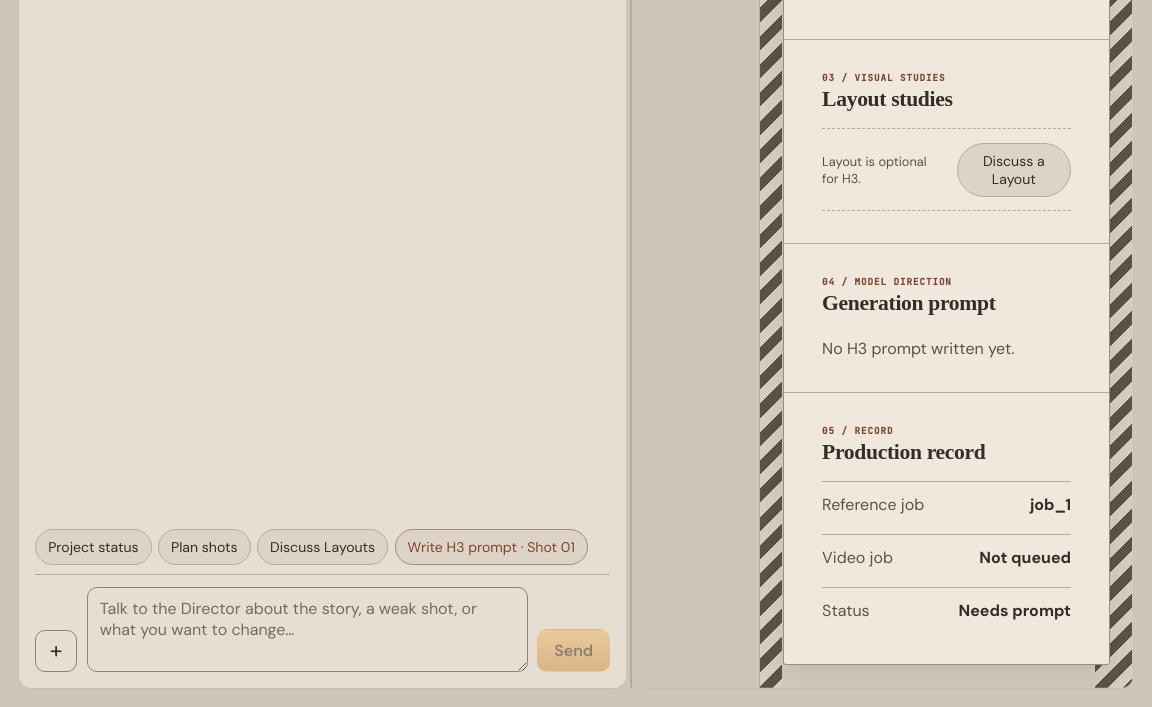
Scenario: Director shot actions › keeps chat project-wide without showing a redundant scope subtitle
(page scrolled)
Replace the text in the text box with placeholder "Talk to the Director" with "What should we improve next?" at (307, 630), box [87,587,528,672]
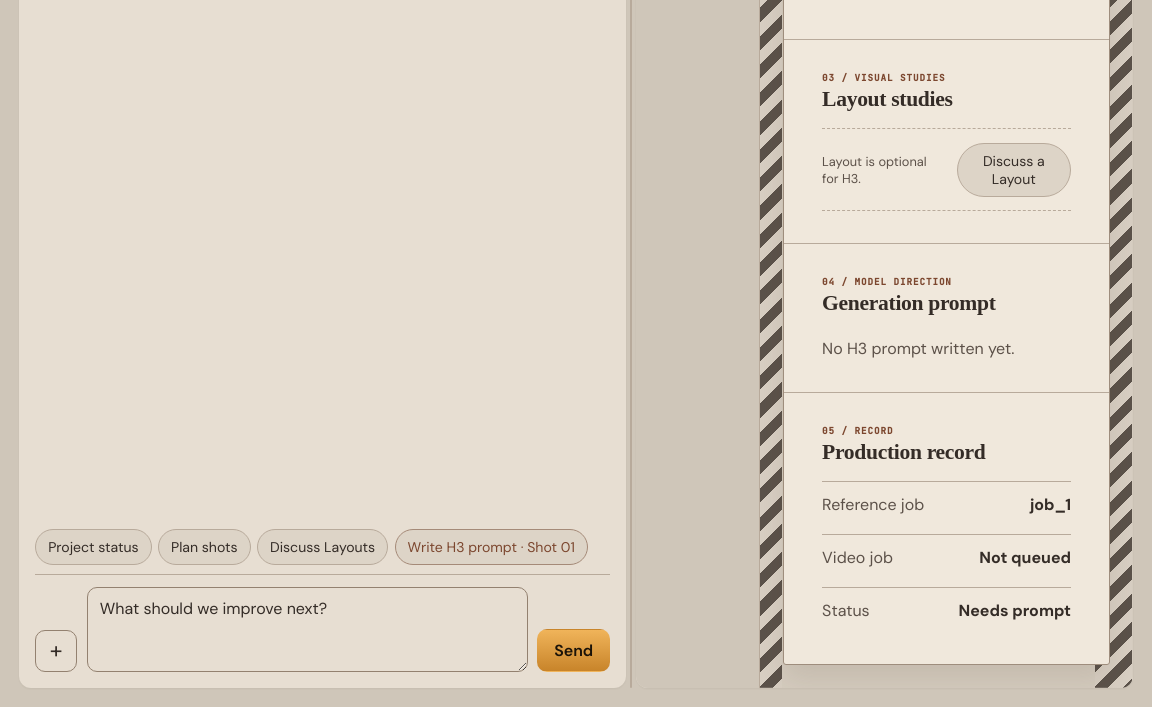
Click the button "Send" at (574, 650), box [537,629,610,672]
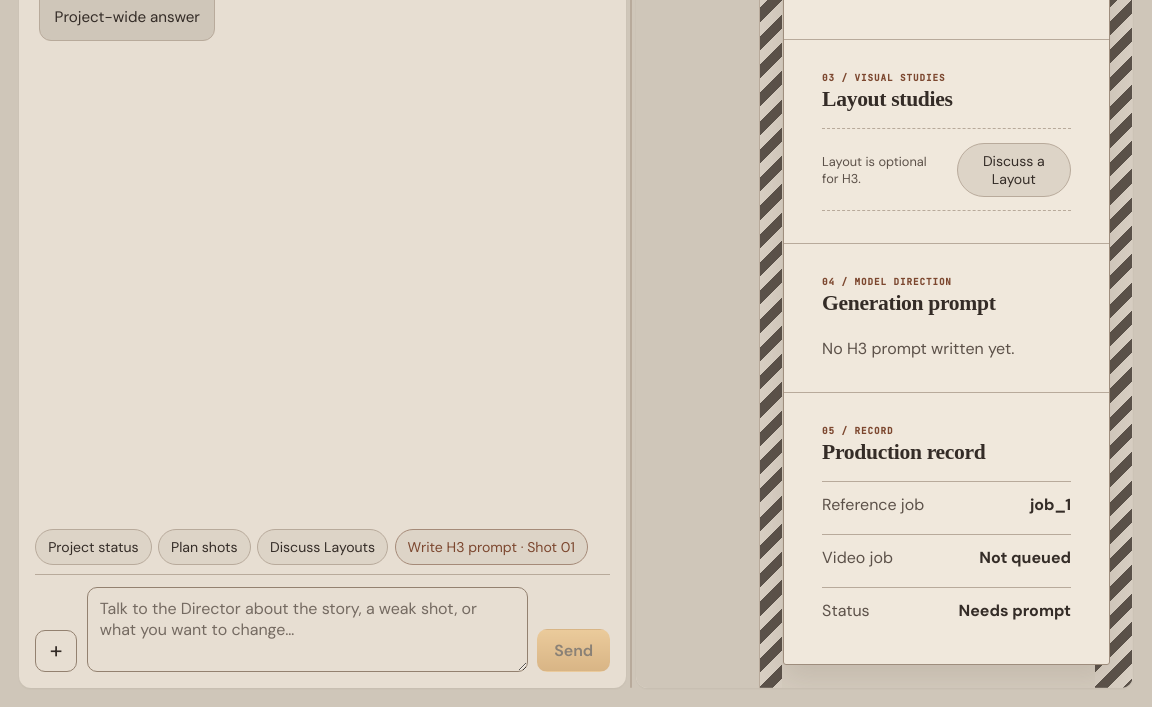
Expected: the text "Project-wide answer" is shown, [55,6,200,28]
